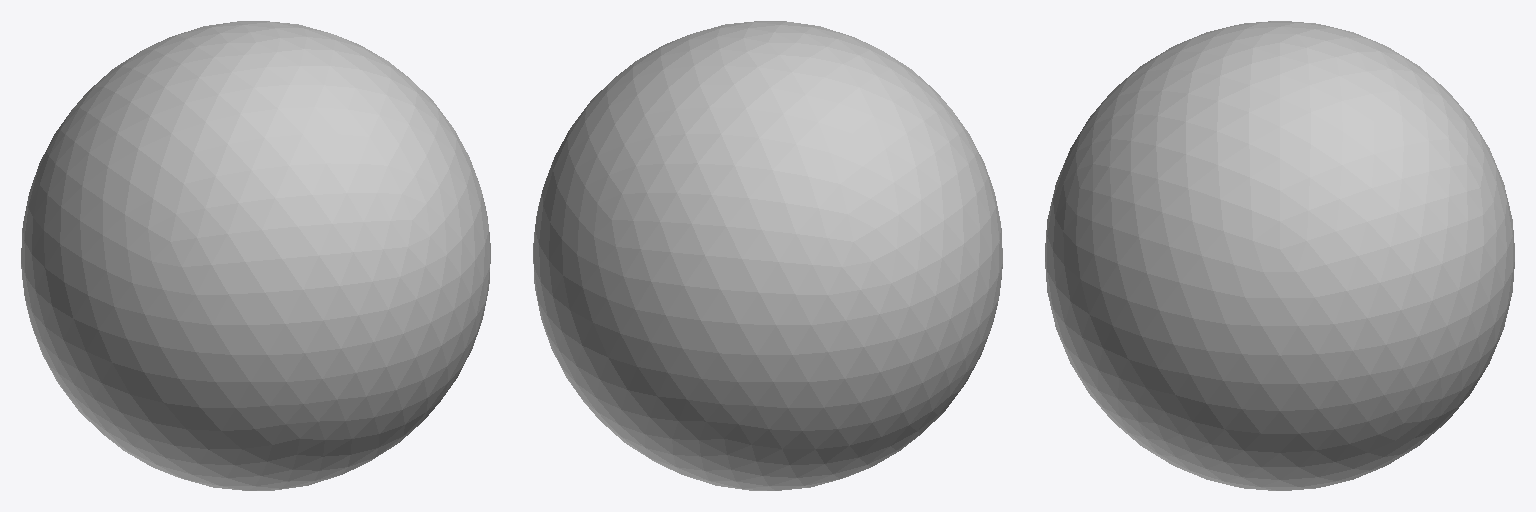
File: NewStationgGlass.obj
3 views of the same model, side by side, from view 1: azimuth 30°, elevation 25°; view 2: azimuth 150°, elevation 25°; view 3: azimuth 270°, elevation 25° (orthographic).
Parts seen in each view (by area): view 1: Icosphere.001_Icosphere.005; view 2: Icosphere.001_Icosphere.005; view 3: Icosphere.001_Icosphere.005.
Part boxes in pixels (left/top/right/bottom): Icosphere.001_Icosphere.005: left=21, top=21, right=490, bottom=490; Icosphere.001_Icosphere.005: left=533, top=21, right=1002, bottom=490; Icosphere.001_Icosphere.005: left=1045, top=21, right=1514, bottom=490.
Size of the model in its own units: 3.51 by 3.51 by 3.51.